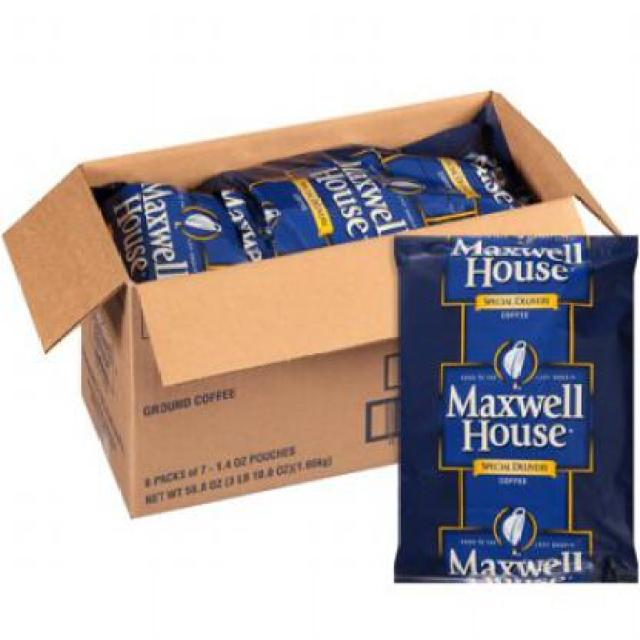box: (4, 89, 630, 535)
